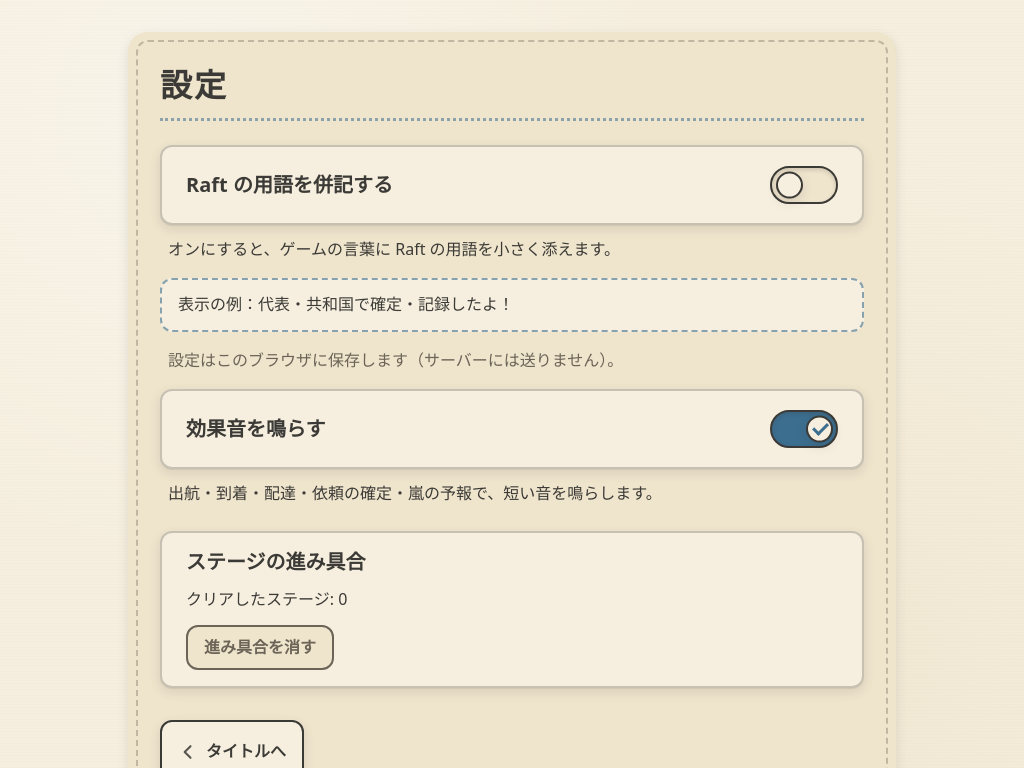
Test: SettingsScreen の効果音（T-434） › SE-S3 保存できなかったことを表示する
Click the checkbox labelled "効果音を鳴らす": (804, 429) [770,410,838,448]
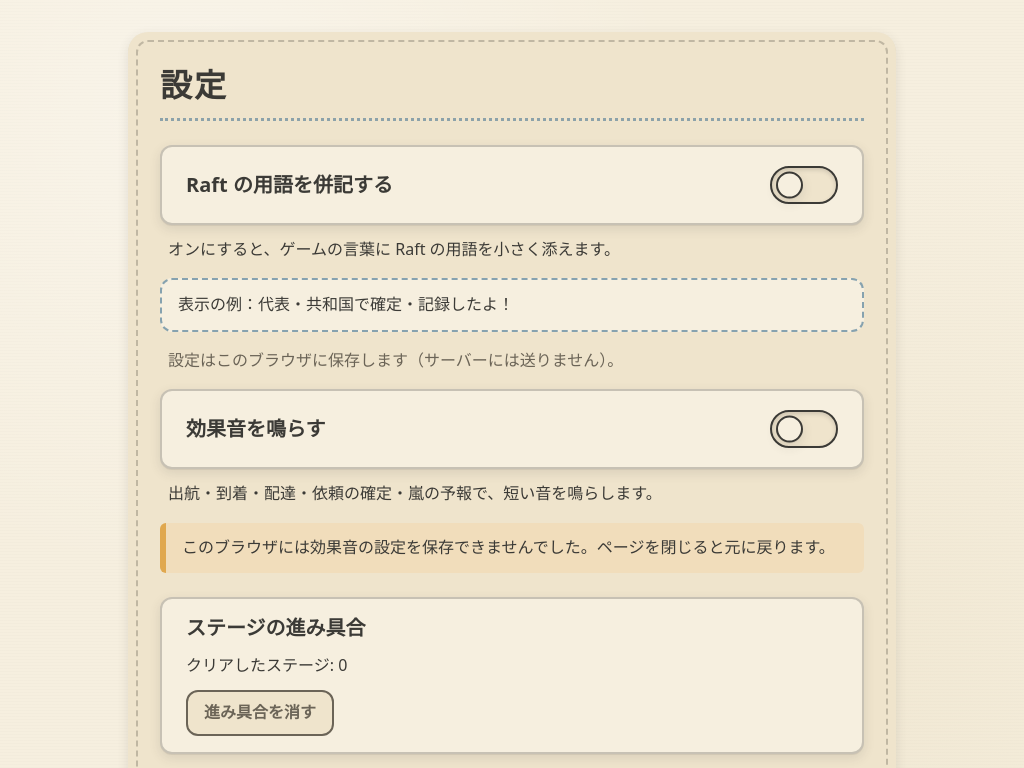
Result: the checkbox labelled "効果音を鳴らす" is not checked at [770,410,838,448]
Result: the text "このブラウザには効果音の設定を保存できませんでした。ページを閉じると元に戻ります。" is shown at [160,523,864,573]
